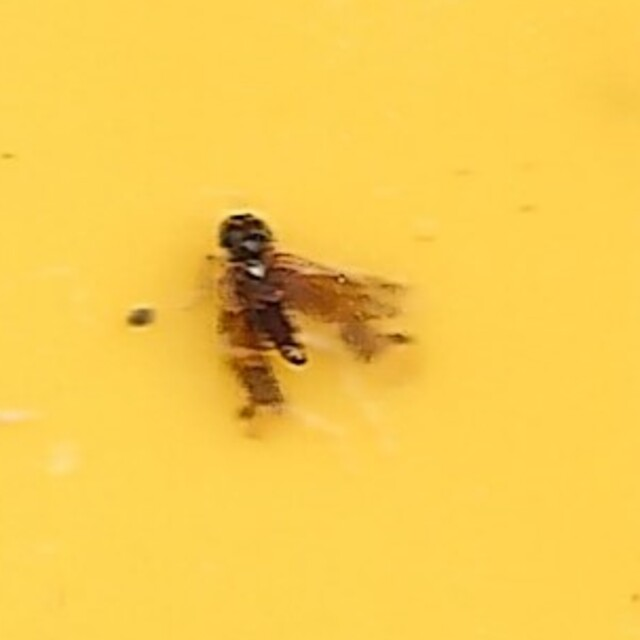Hemiptera: (211, 203, 429, 437)
